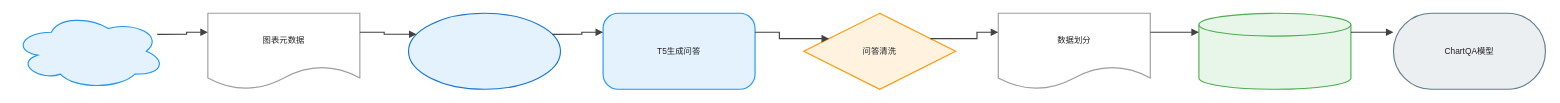
Image size: 1560x103. Some labels were removed from this diagram. Here are the shapes that lost their labels. From the top down, the box of each, then its label:
(12, 12, 166, 90): 在线图表
(408, 12, 561, 90): 人工问答
(1198, 12, 1351, 90): ChartOCR表格
